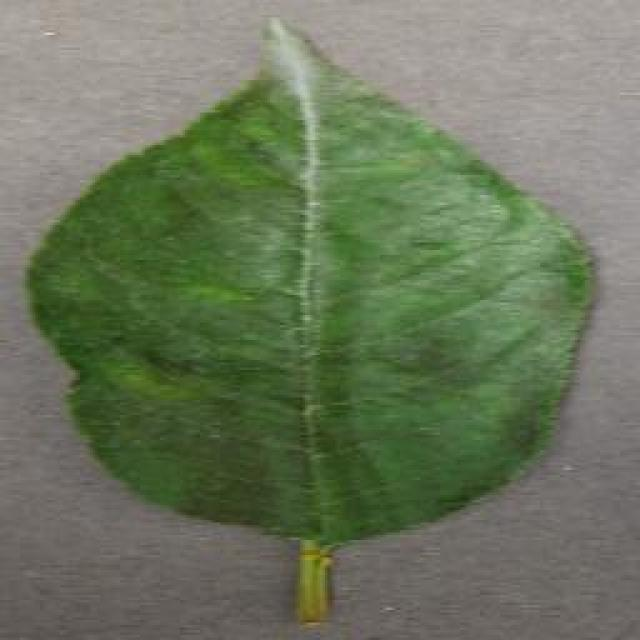Cherry___Powdery_mildew: (7, 7, 605, 635)
